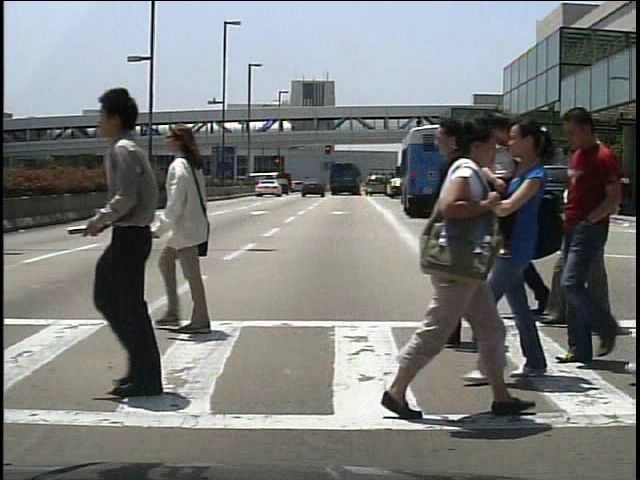person: (382, 112, 513, 425), (72, 79, 186, 397), (138, 119, 255, 344), (552, 106, 625, 374), (468, 130, 540, 322), (565, 142, 619, 342), (582, 168, 602, 218), (489, 163, 507, 215), (460, 117, 463, 342)
